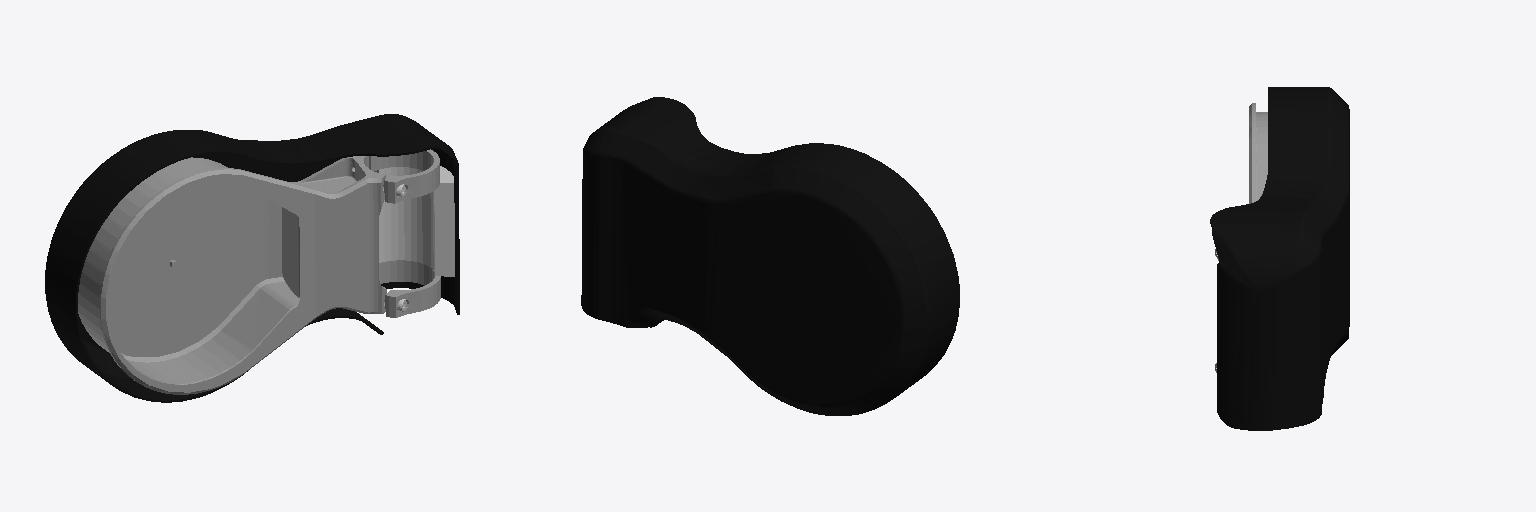
Rendered from anymal_shank_l.obj.
3 views of the same model, side by side, from view 1: azimuth 30°, elevation 25°; view 2: azimuth 150°, elevation 25°; view 3: azimuth 270°, elevation 25° (orthographic).
Parts seen in each view (by area): view 1: _42196_00-ASM_ANYmal_shank_left_EDI_001_042196_00-ASM_ANYmal_sha, _42196_00-ASM_ANYmal_shank_left_EDI_002_042196_00-ASM_ANYmal_sha, _42196_00-ASM_ANYmal_shank_left_EDI_005_042196_00-ASM_ANYmal_sha, _42196_00-ASM_ANYmal_shank_left_EDI_004_042196_00-ASM_ANYmal_sha; view 2: _42196_00-ASM_ANYmal_shank_left_EDI_002_042196_00-ASM_ANYmal_sha; view 3: _42196_00-ASM_ANYmal_shank_left_EDI_002_042196_00-ASM_ANYmal_sha, _42196_00-ASM_ANYmal_shank_left_EDI_001_042196_00-ASM_ANYmal_sha.
Part boxes in pixels (x1,y1,x2,y2): _42196_00-ASM_ANYmal_shank_left_EDI_001_042196_00-ASM_ANYmal_sha: (78, 156, 386, 394); _42196_00-ASM_ANYmal_shank_left_EDI_002_042196_00-ASM_ANYmal_sha: (45, 114, 459, 402); _42196_00-ASM_ANYmal_shank_left_EDI_005_042196_00-ASM_ANYmal_sha: (374, 166, 454, 276); _42196_00-ASM_ANYmal_shank_left_EDI_004_042196_00-ASM_ANYmal_sha: (369, 149, 440, 317); _42196_00-ASM_ANYmal_shank_left_EDI_002_042196_00-ASM_ANYmal_sha: (581, 97, 959, 415); _42196_00-ASM_ANYmal_shank_left_EDI_002_042196_00-ASM_ANYmal_sha: (1210, 87, 1349, 430); _42196_00-ASM_ANYmal_shank_left_EDI_001_042196_00-ASM_ANYmal_sha: (1249, 103, 1267, 203).
Size of the model in its own units: 183 by 115 by 59.27.